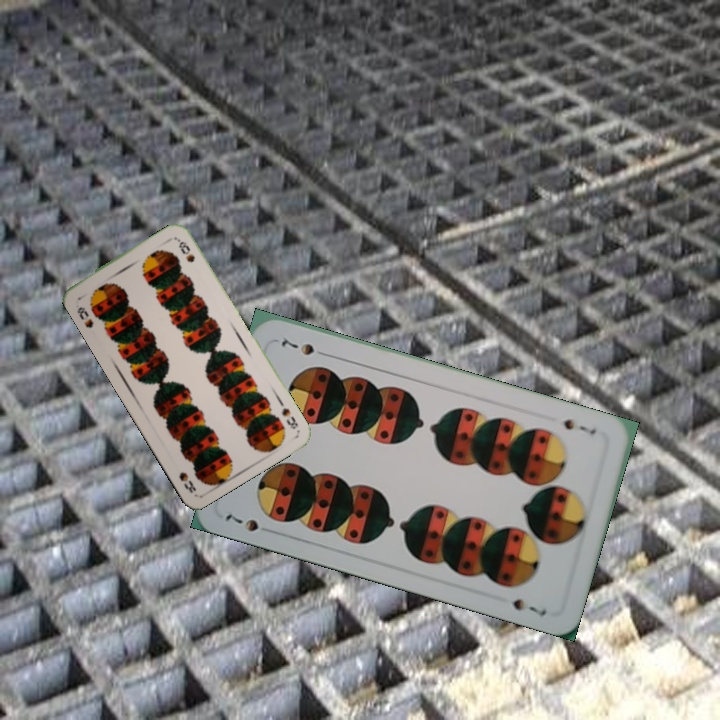S7: (221, 510, 277, 537), (559, 415, 599, 437)
S8: (278, 403, 301, 432), (73, 303, 96, 331)
